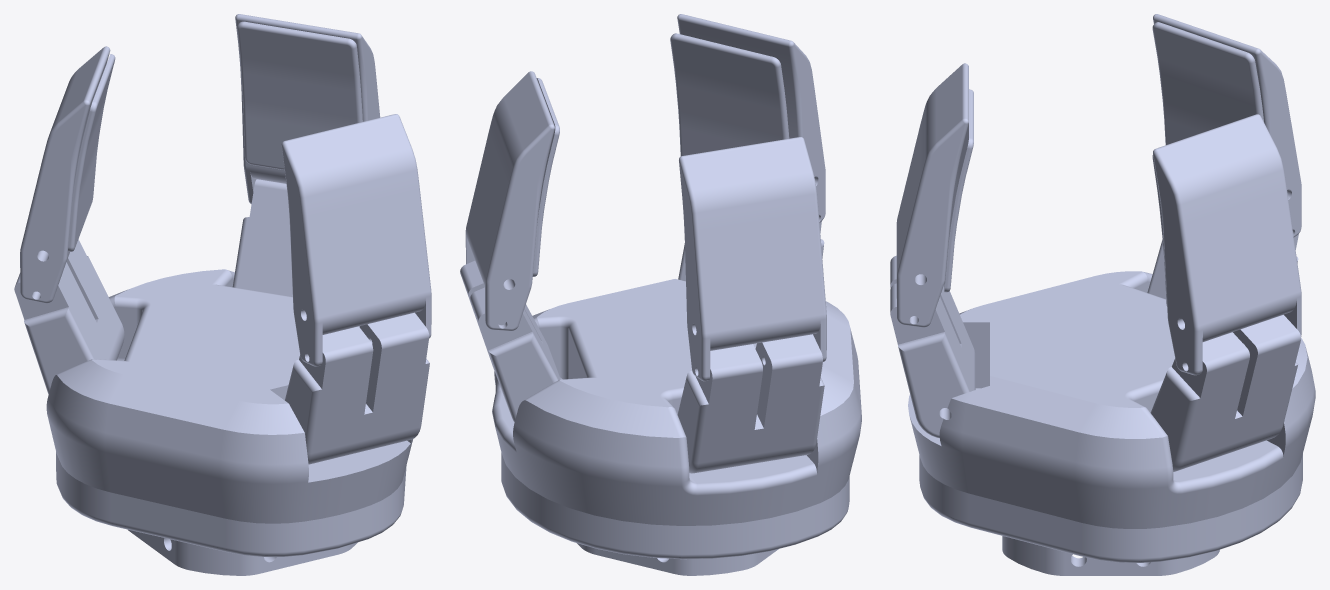
The model's file is Gripper.dae.
3 renders of one model, left to right at view 1: azimuth 30°, elevation 25°; view 2: azimuth 150°, elevation 25°; view 3: azimuth 270°, elevation 25°, orthographic. The views are drawn at different scales.
Parts seen in each view (by area): view 1: CopyFBXASC032ofFBXASC032Part21FBXASC094-v2For-armGripperFBXA, -v2For-armPart63FBXASC094GripperFBXASC032Assembly-finger2, -v2For-armPart63FBXASC094GripperFBXASC032Assembly, -v2For-armRubberFBXASC094GripperFBXASC032Assembly, -v2For-armPart63FBXASC094GripperFBXASC032Assembly-finger2_nc (×2), -v2For-armPart63FBXASC094GripperFBXASC032Assembly_ncl1_4, -v2For-armPart63FBXASC094GripperFBXASC032Assembly_ncl1_2, -v2For-armRubberFBXASC094GripperFBXASC032Assembly_ncl1_4; view 2: CopyFBXASC032ofFBXASC032Part21FBXASC094-v2For-armGripperFBXA, -v2For-armPart63FBXASC094GripperFBXASC032Assembly-finger2_nc (×2), -v2For-armPart63FBXASC094GripperFBXASC032Assembly_ncl1_4, -v2For-armRubberFBXASC094GripperFBXASC032Assembly_ncl1_2, -v2For-armPart63FBXASC094GripperFBXASC032Assembly-finger2, -v2For-armPart63FBXASC094GripperFBXASC032Assembly_ncl1_2, -v2For-armRubberFBXASC094GripperFBXASC032Assembly; view 3: CopyFBXASC032ofFBXASC032Part21FBXASC094-v2For-armGripperFBXA, -v2For-armPart63FBXASC094GripperFBXASC032Assembly-finger2_nc (×2), -v2For-armPart63FBXASC094GripperFBXASC032Assembly_ncl1_2, -v2For-armPart63FBXASC094GripperFBXASC032Assembly-finger2, -v2For-armRubberFBXASC094GripperFBXASC032Assembly_ncl1_4, -v2For-armPart63FBXASC094GripperFBXASC032Assembly, -v2For-armRubberFBXASC094GripperFBXASC032Assembly_ncl1_2, -v2For-armPart63FBXASC094GripperFBXASC032Assembly_ncl1_4.
Part boxes in pixels (bbox=[...]): CopyFBXASC032ofFBXASC032Part21FBXASC094-v2For-armGripperFBXA: bbox=[46, 269, 412, 575]; -v2For-armPart63FBXASC094GripperFBXASC032Assembly-finger2: bbox=[281, 114, 431, 366]; -v2For-armPart63FBXASC094GripperFBXASC032Assembly: bbox=[285, 312, 429, 464]; -v2For-armRubberFBXASC094GripperFBXASC032Assembly: bbox=[237, 21, 362, 170]; -v2For-armPart63FBXASC094GripperFBXASC032Assembly-finger2_nc (×2): bbox=[20, 14, 380, 303]; -v2For-armPart63FBXASC094GripperFBXASC032Assembly_ncl1_4: bbox=[14, 239, 124, 393]; -v2For-armPart63FBXASC094GripperFBXASC032Assembly_ncl1_2: bbox=[232, 179, 292, 296]; -v2For-armRubberFBXASC094GripperFBXASC032Assembly_ncl1_4: bbox=[68, 54, 115, 251]; CopyFBXASC032ofFBXASC032Part21FBXASC094-v2For-armGripperFBXA: bbox=[492, 279, 861, 575]; -v2For-armPart63FBXASC094GripperFBXASC032Assembly-finger2_nc (×2): bbox=[465, 71, 826, 381]; -v2For-armPart63FBXASC094GripperFBXASC032Assembly_ncl1_4: bbox=[677, 334, 824, 473]; -v2For-armRubberFBXASC094GripperFBXASC032Assembly_ncl1_2: bbox=[670, 33, 789, 156]; -v2For-armPart63FBXASC094GripperFBXASC032Assembly-finger2: bbox=[677, 14, 825, 222]; -v2For-armPart63FBXASC094GripperFBXASC032Assembly_ncl1_2: bbox=[460, 260, 560, 422]; -v2For-armRubberFBXASC094GripperFBXASC032Assembly: bbox=[532, 78, 559, 276]; CopyFBXASC032ofFBXASC032Part21FBXASC094-v2For-armGripperFBXA: bbox=[908, 271, 1315, 575]; -v2For-armPart63FBXASC094GripperFBXASC032Assembly-finger2_nc (×2): bbox=[1153, 14, 1301, 375]; -v2For-armPart63FBXASC094GripperFBXASC032Assembly_ncl1_2: bbox=[1150, 315, 1300, 471]; -v2For-armPart63FBXASC094GripperFBXASC032Assembly-finger2: bbox=[896, 63, 968, 327]; -v2For-armRubberFBXASC094GripperFBXASC032Assembly_ncl1_4: bbox=[1152, 22, 1263, 144]; -v2For-armPart63FBXASC094GripperFBXASC032Assembly: bbox=[890, 255, 975, 437]; -v2For-armRubberFBXASC094GripperFBXASC032Assembly_ncl1_2: bbox=[944, 89, 973, 292]; -v2For-armPart63FBXASC094GripperFBXASC032Assembly_ncl1_4: bbox=[1147, 234, 1298, 299].
Bounding box in the file's own units: 0.1062 × 0.1231 × 0.1052.
